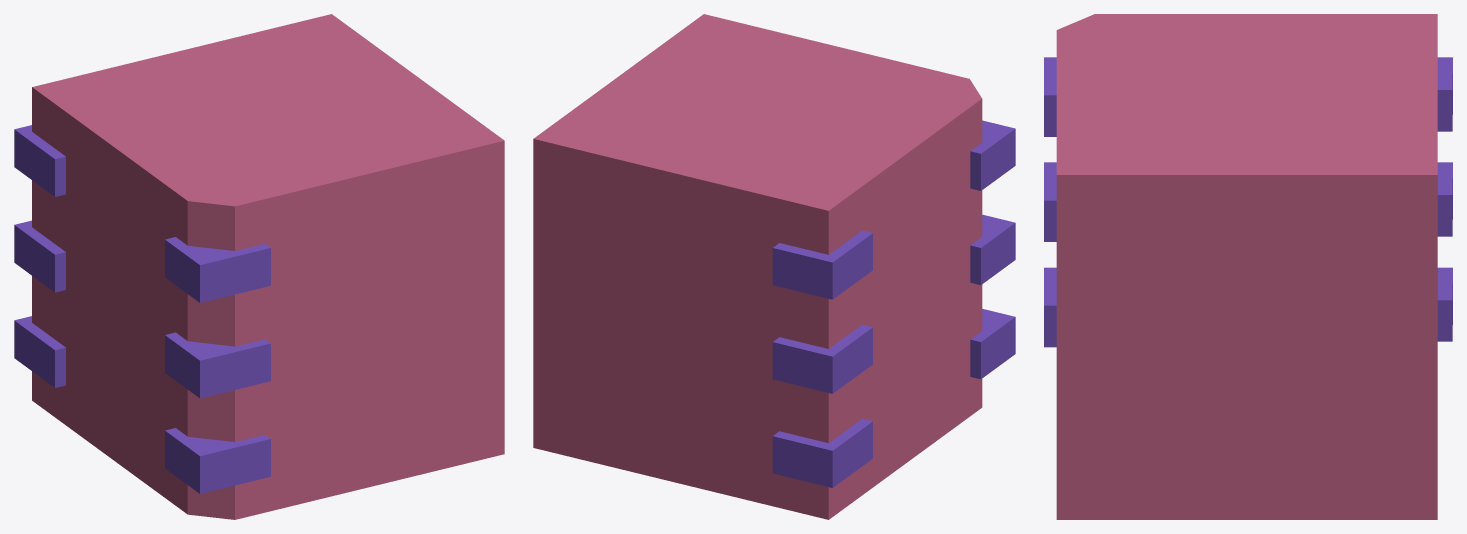
Rendered from Right Connect Pink Purple.fbx.
3 renders of one model, left to right at view 1: azimuth 30°, elevation 25°; view 2: azimuth 150°, elevation 25°; view 3: azimuth 270°, elevation 25°, orthographic. The views are drawn at different scales.
Visible parts, largest first — view 1: pCube9; view 2: pCube9; view 3: pCube9.
Part boxes in pixels (<box>): pCube9: <box>14,14,504,519</box>; pCube9: <box>533,14,1015,519</box>; pCube9: <box>1044,14,1452,519</box>.
Bounding box in the file's own units: 2.07 × 2 × 2.15.
